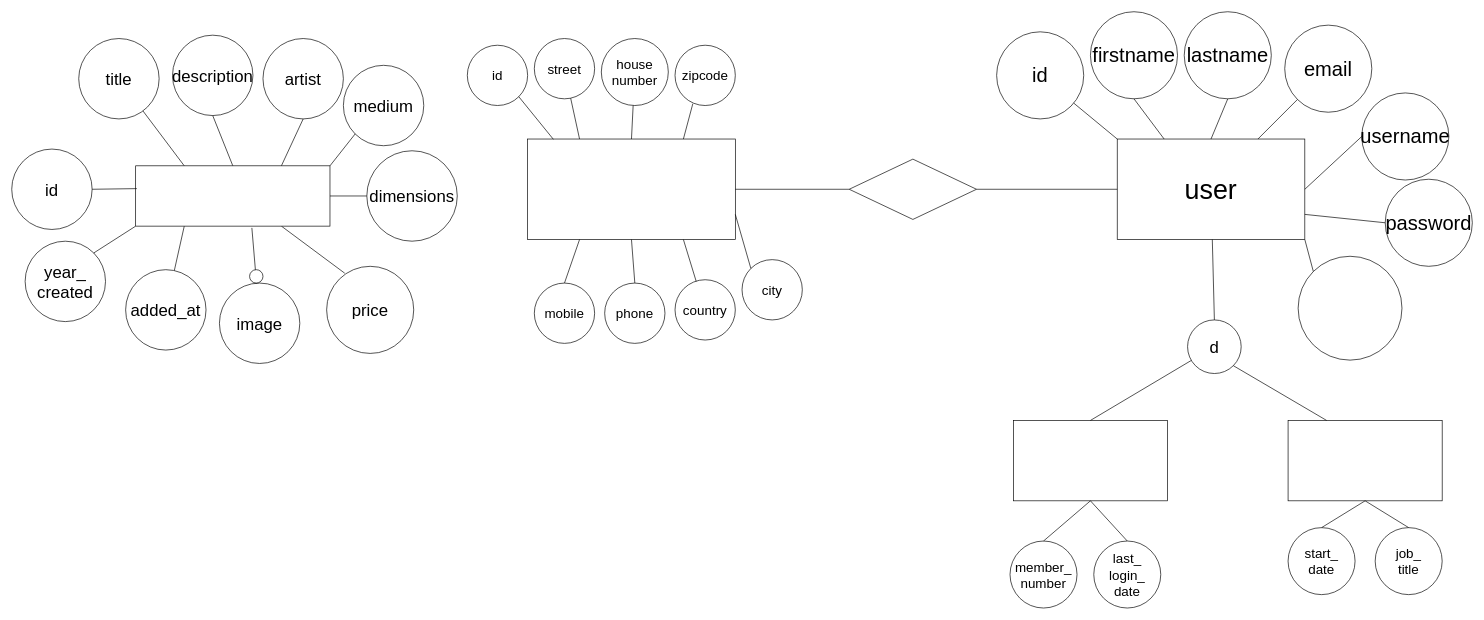
This 1484x620 diagram has some shape labels left out. Here are the shapes that lost their labels. From the top down, the box of each, then its label:
(135, 165, 330, 226): Artwork
(527, 138, 735, 240): Address
(849, 158, 977, 219): heeft
(1297, 256, 1402, 360): address_id
(1013, 420, 1167, 501): Member
(1287, 420, 1442, 501): Employee
